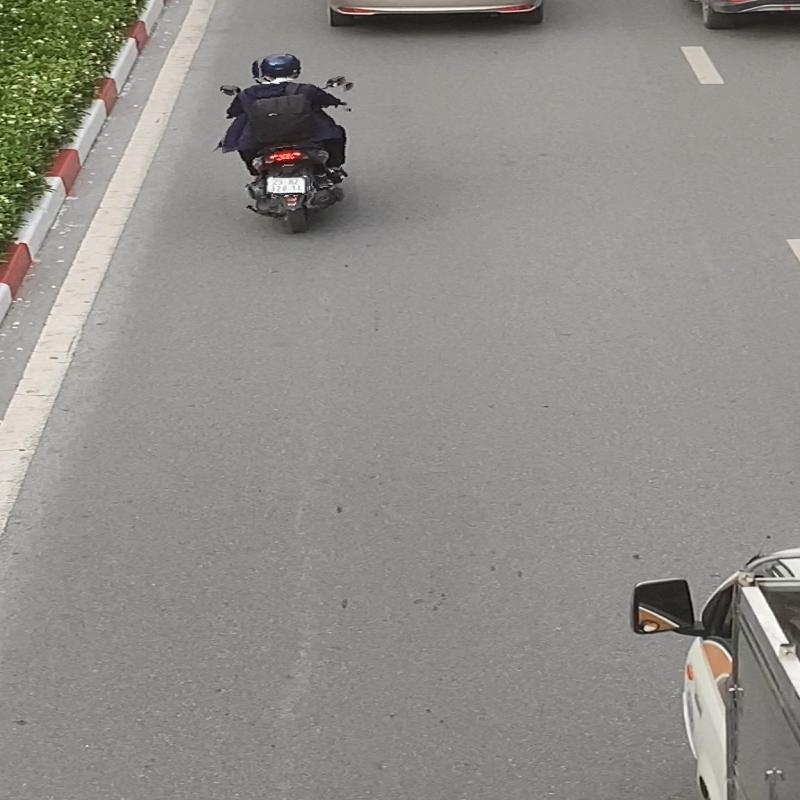helmet: (258, 53, 304, 82)
licenseplate: (265, 176, 309, 195)
motorcyclist: (218, 51, 356, 237)
